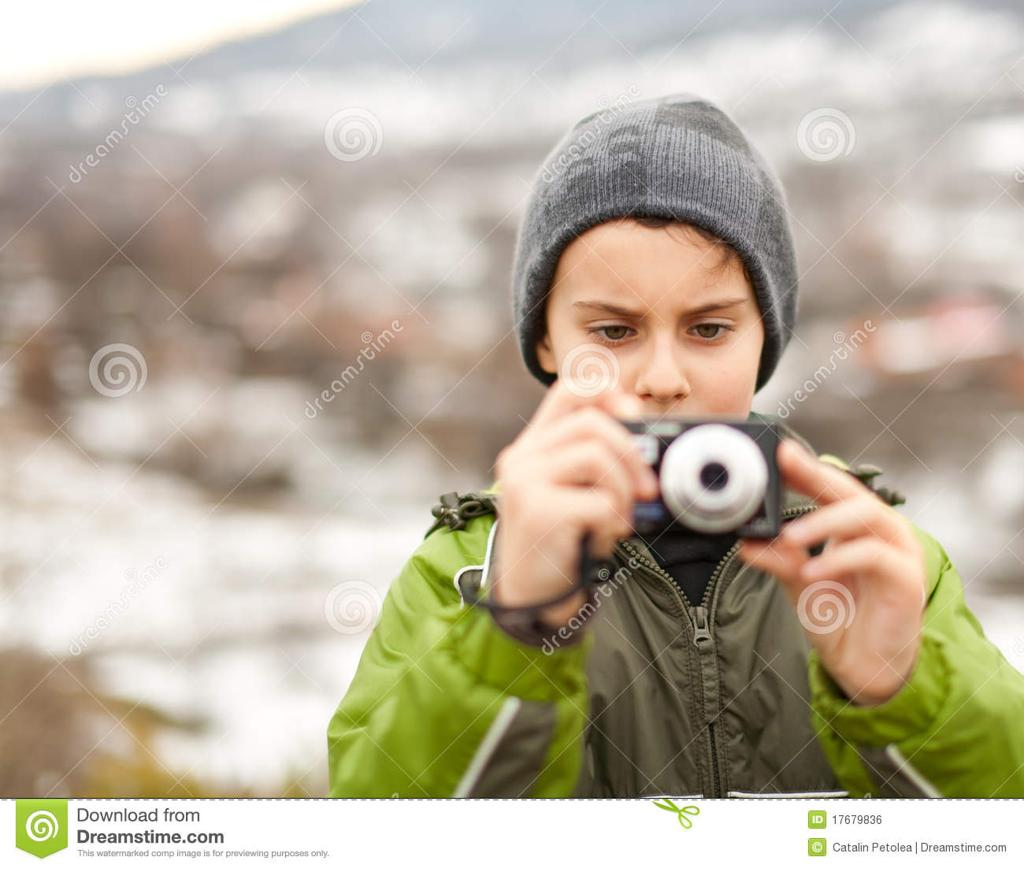face: (556, 212, 754, 458)
